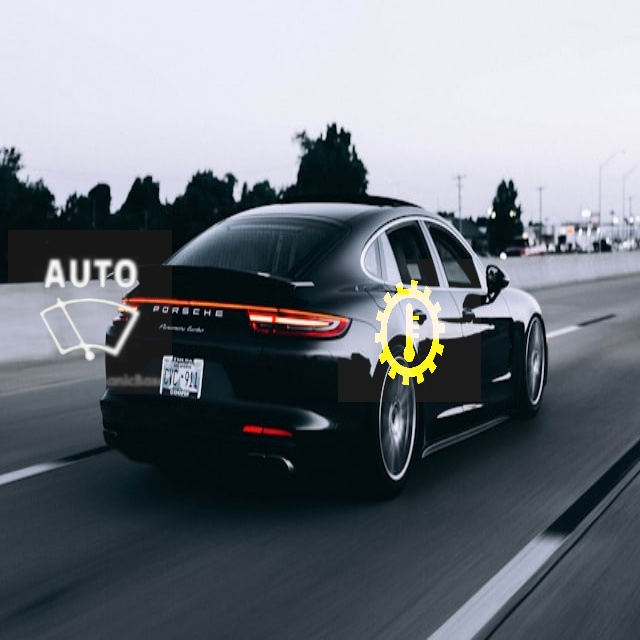symbol: (8, 230, 172, 394), (338, 259, 481, 402)
